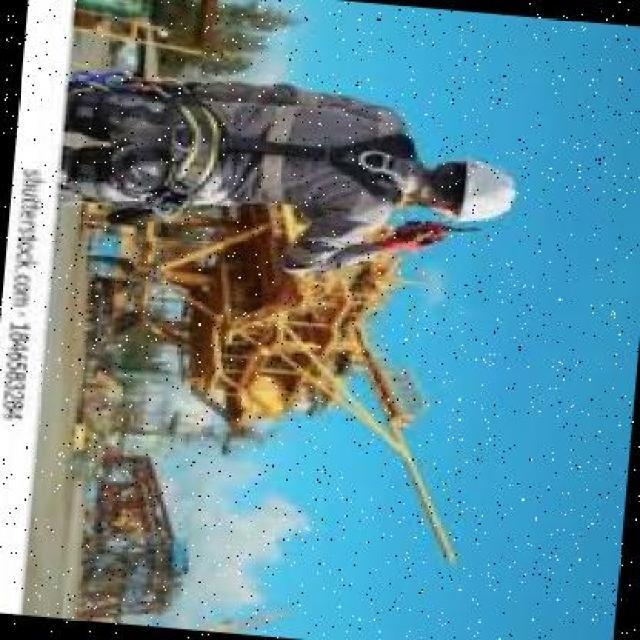Arnes_seguridad: (55, 68, 426, 230)
